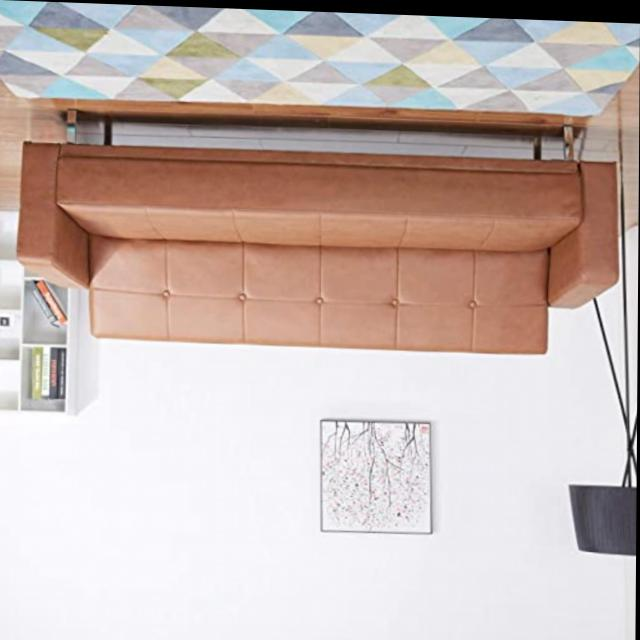Sofa: (18, 103, 622, 353)
